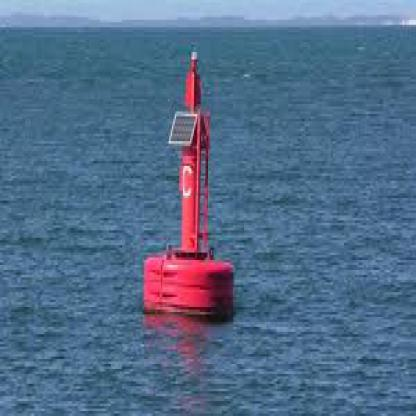buoy: (140, 44, 240, 332)
